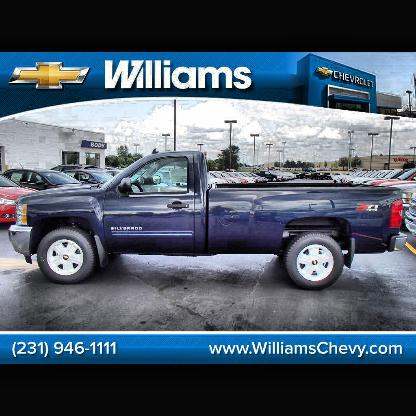Chevrolet Silverado 1500 Regular Cab 2012: (7, 151, 405, 292)
